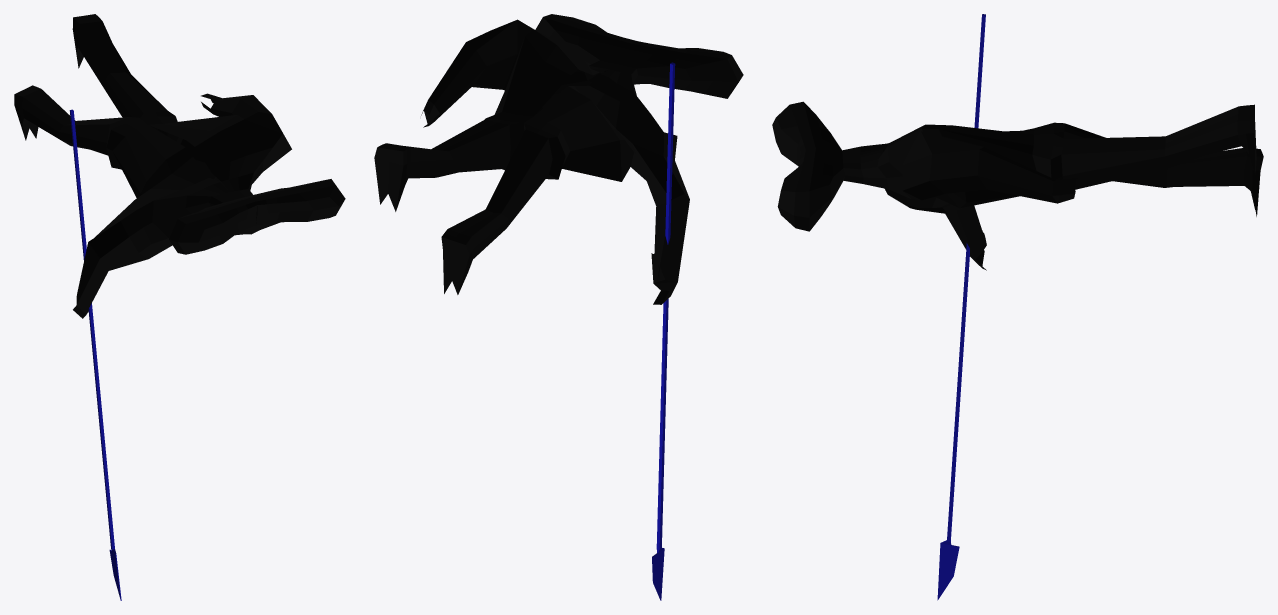
The model's file is Spearman3a.obj.
3 views of the same model, side by side, from view 1: azimuth 30°, elevation 25°; view 2: azimuth 150°, elevation 25°; view 3: azimuth 270°, elevation 25° (orthographic). The views are drawn at different scales.
Parts seen in each view (by area): view 1: Cube; view 2: Cube; view 3: Cube.
Part boxes in pixels (x1=…): Cube: x1=14, y1=14, x2=345, y2=600; Cube: x1=374, y1=14, x2=743, y2=600; Cube: x1=772, y1=14, x2=1263, y2=600.
Size of the model in its own units: 0.5187 by 1.22 by 0.9552.
